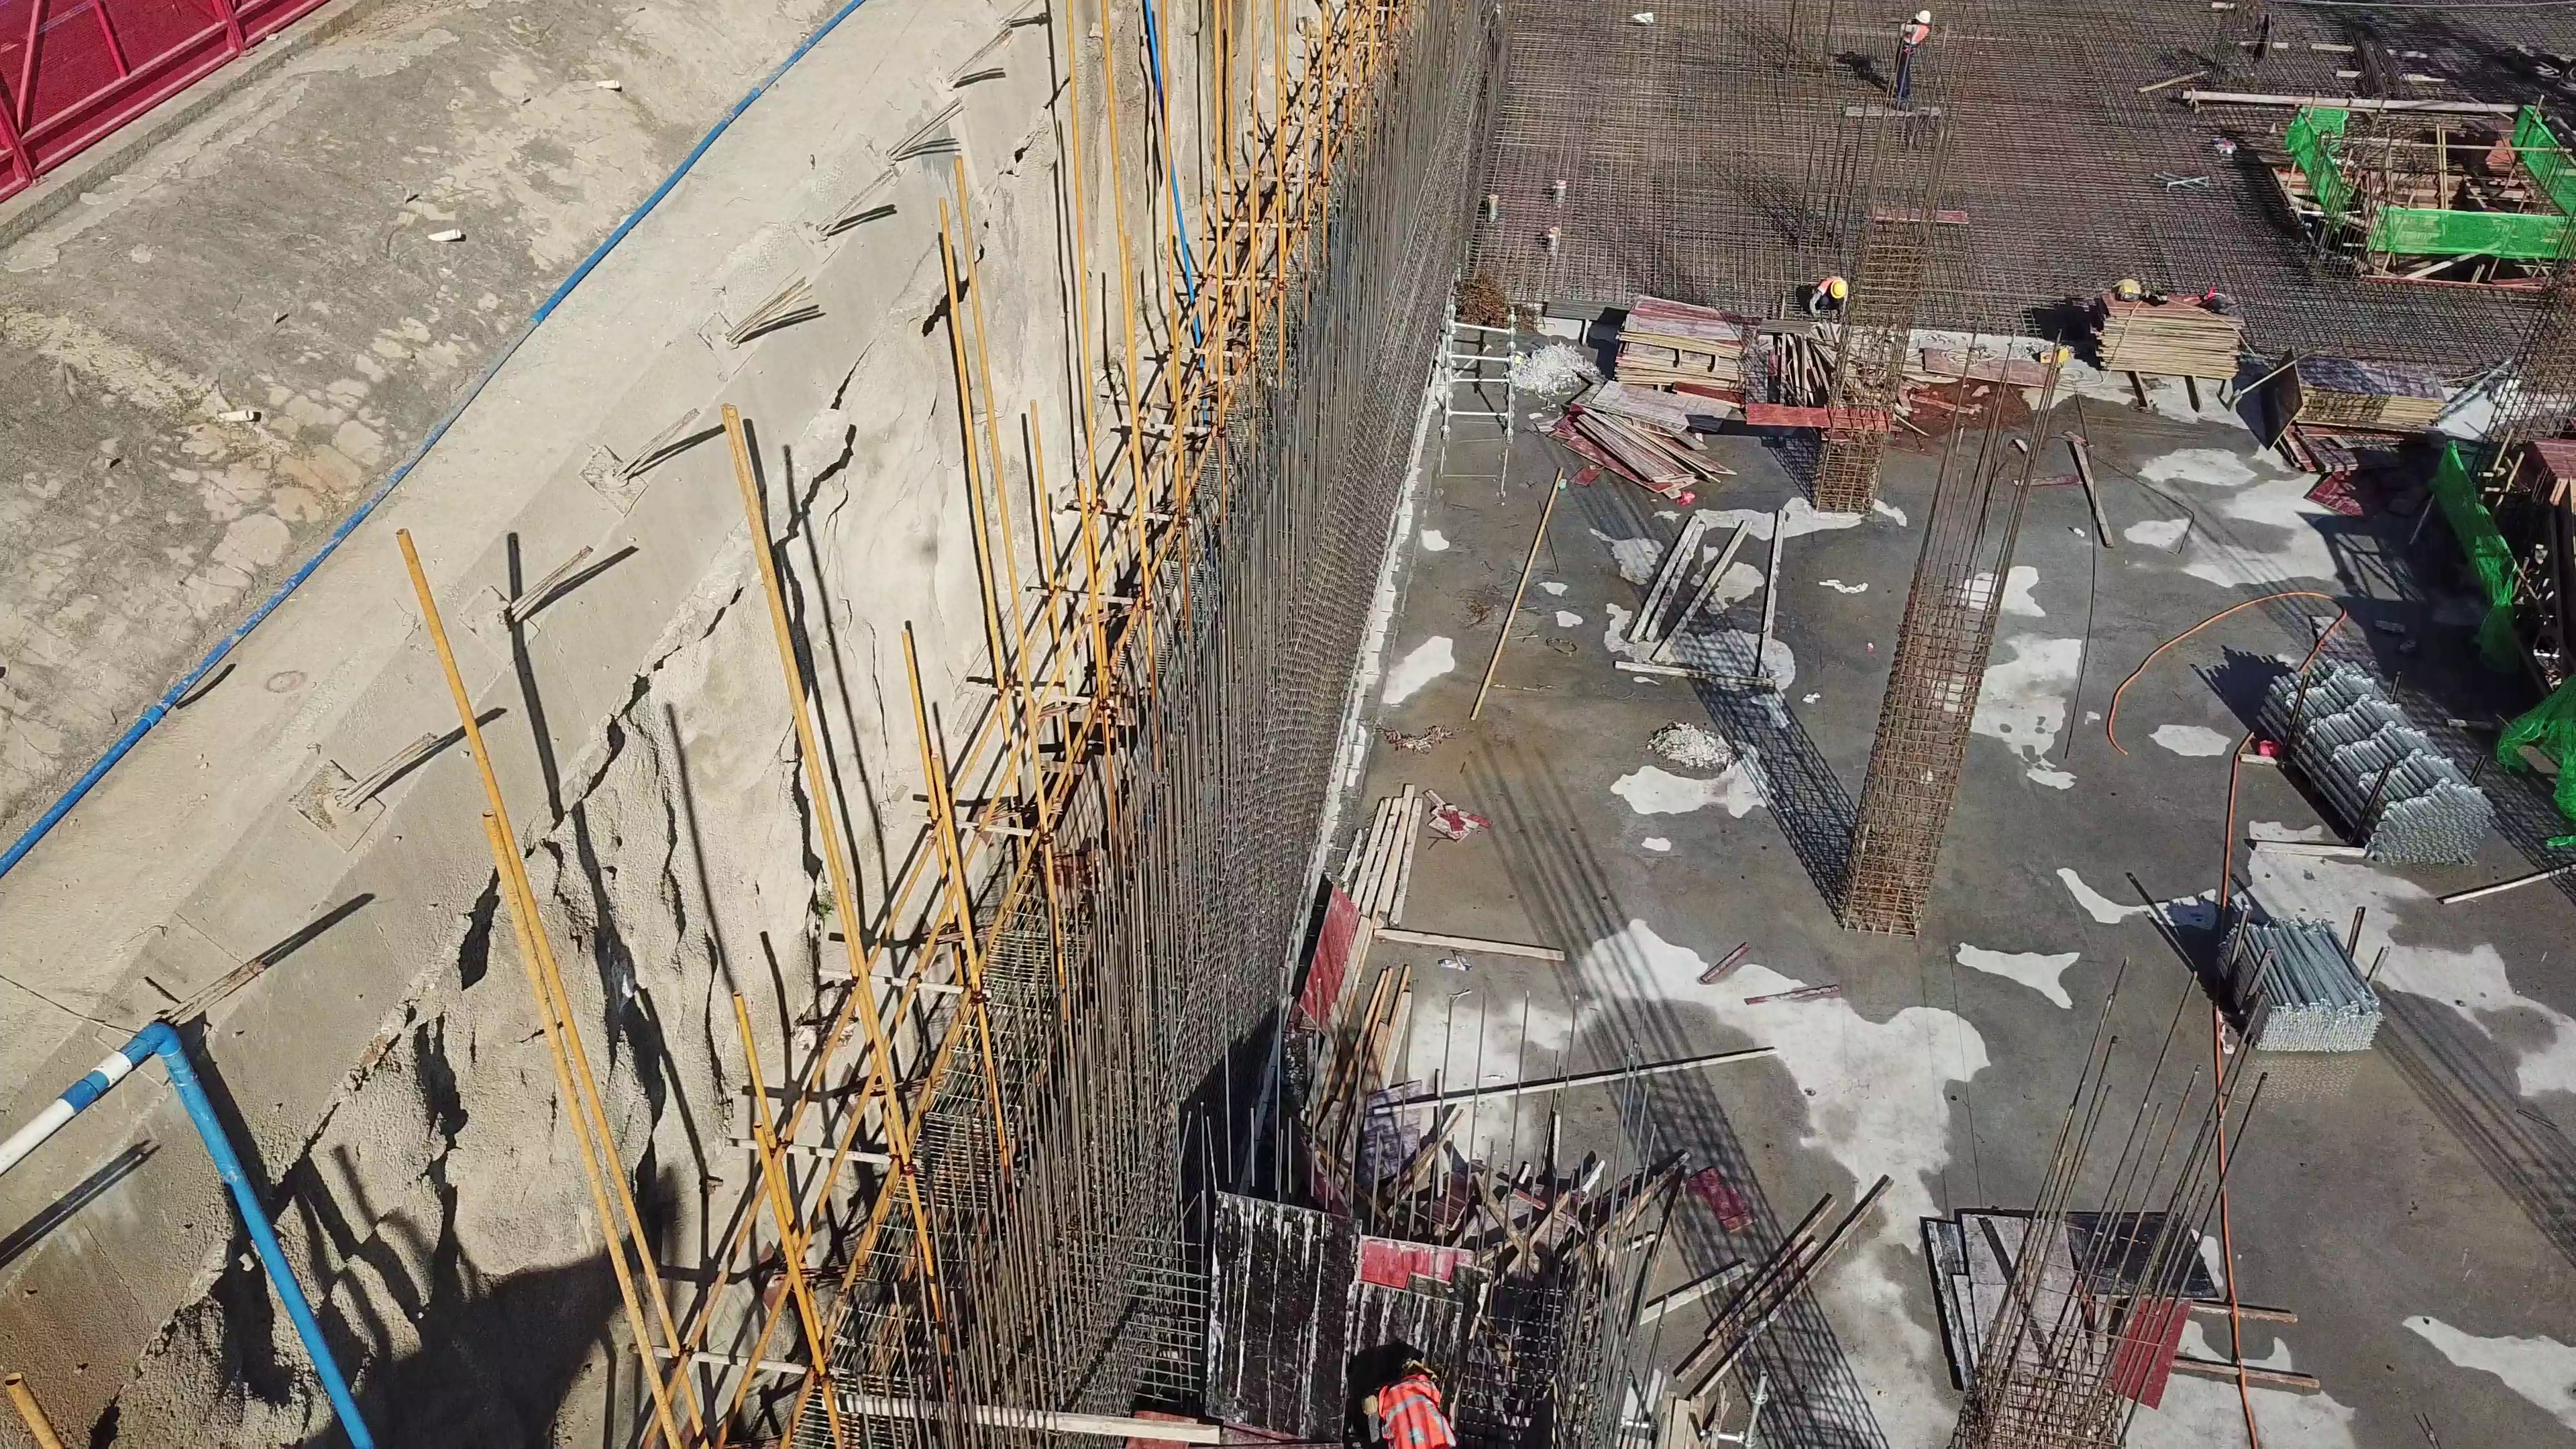board: (1578, 370, 1736, 489), (1603, 289, 1756, 394), (2093, 288, 2244, 386), (2277, 347, 2435, 433)
helmet: (1829, 277, 1848, 303), (1913, 5, 1931, 25)
person: (1884, 1, 1938, 109), (1807, 274, 1849, 318)
scaffold: (2238, 640, 2513, 872), (2202, 908, 2382, 1075)
vest: (1377, 1370, 1448, 1449), (1905, 18, 1925, 44)
